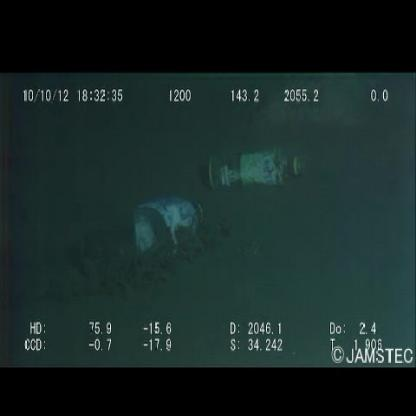Rác: (85, 184, 223, 272), (198, 140, 311, 196)
